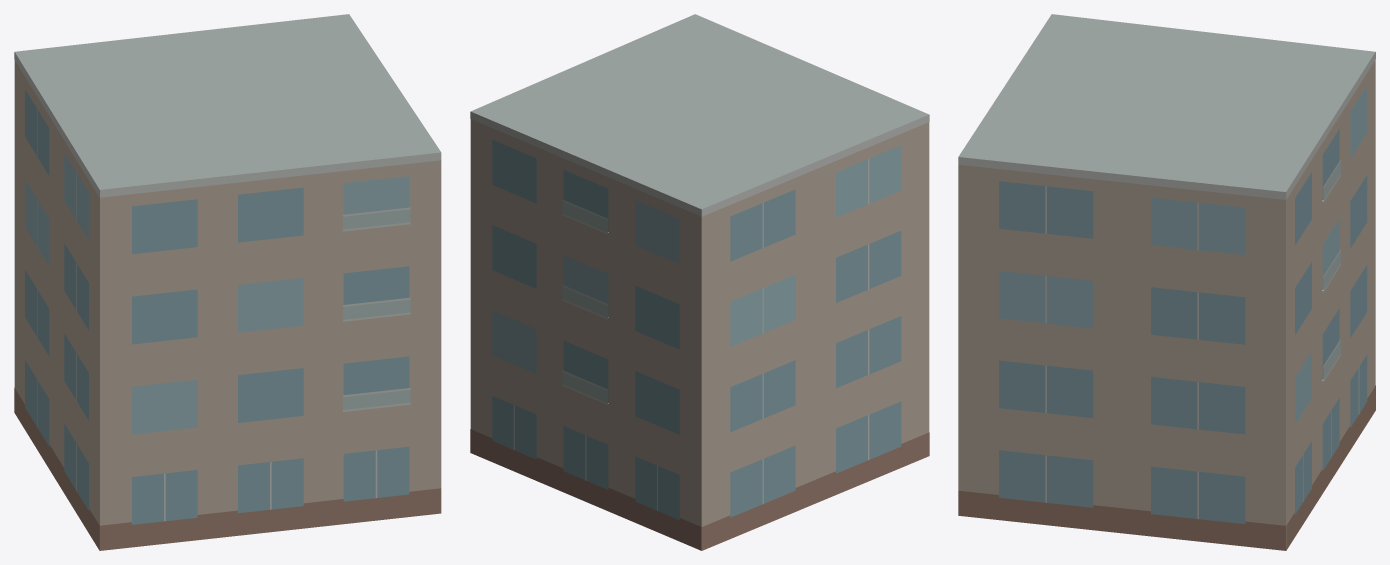
The model's file is survey-upis-32810969.glb.
3 views of the same model, side by side, from view 1: azimuth 30°, elevation 25°; view 2: azimuth 150°, elevation 25°; view 3: azimuth 270°, elevation 25° (orthographic). The views are drawn at different scales.
Parts seen in each view (by area): view 1: survey-upis-32810969.tmp; view 2: survey-upis-32810969.tmp; view 3: survey-upis-32810969.tmp.
Part boxes in pixels (x1,y1,x2,y2): survey-upis-32810969.tmp: [14, 14, 441, 550]; survey-upis-32810969.tmp: [470, 14, 929, 550]; survey-upis-32810969.tmp: [958, 14, 1375, 550].
Bounding box in the file's own units: 12.02 × 11.28 × 11.9.
